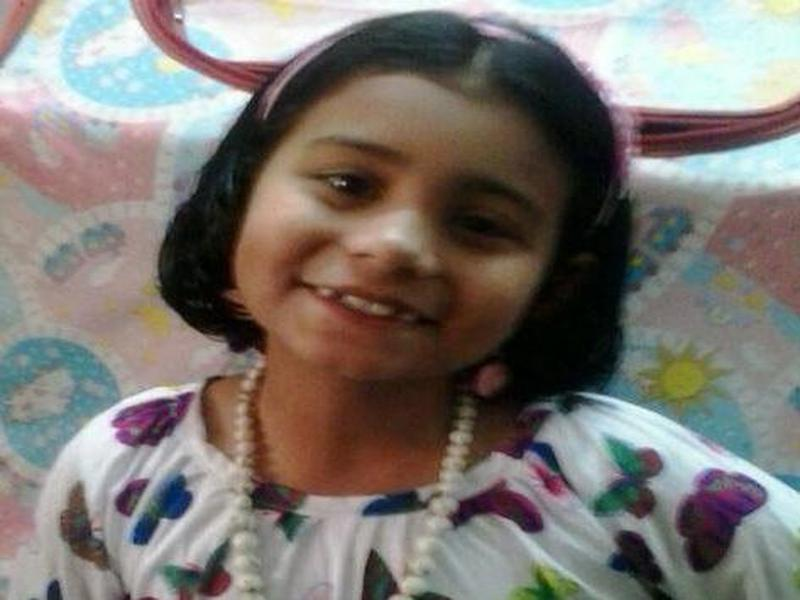without_mask: (236, 59, 534, 385)
